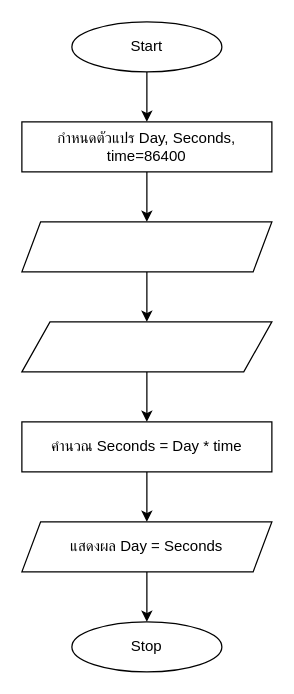
Image size: 294x694. Some labels were removed from this diagram. The centre of each missing label's shape, as x and y in pixels:
รับค่าจากผู้ใช้เก็บใน Day: [146,346]
แสดงข้อความ Input Day :: [146,246]
